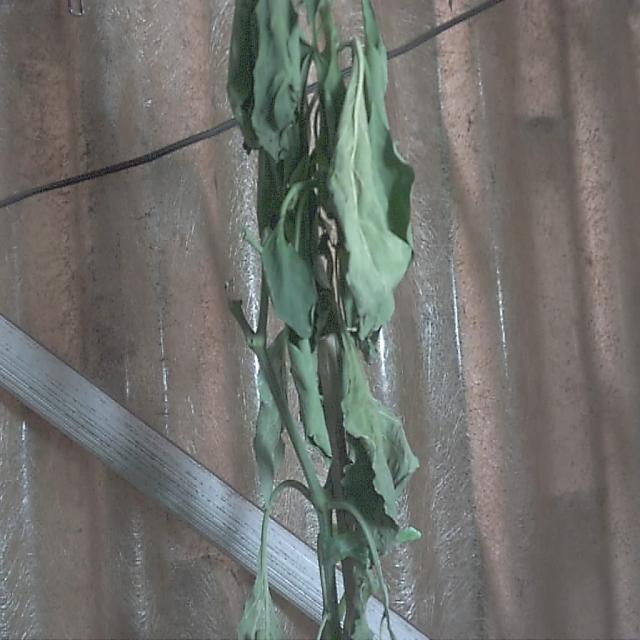Leaf: (332, 46, 414, 352), (251, 0, 302, 162), (283, 310, 334, 459), (263, 218, 318, 340)
